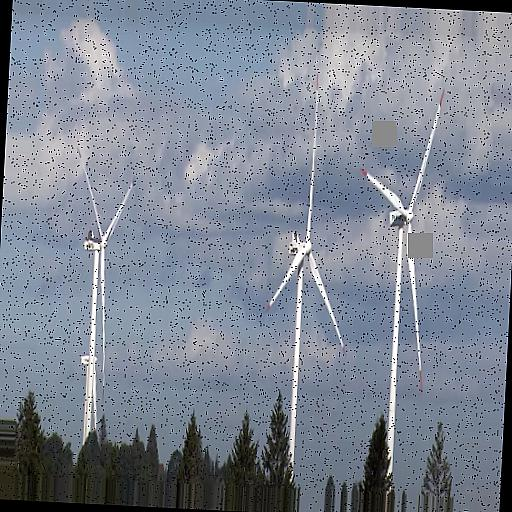wind turbine: (263, 58, 344, 482), (362, 88, 446, 478), (77, 158, 136, 446)
